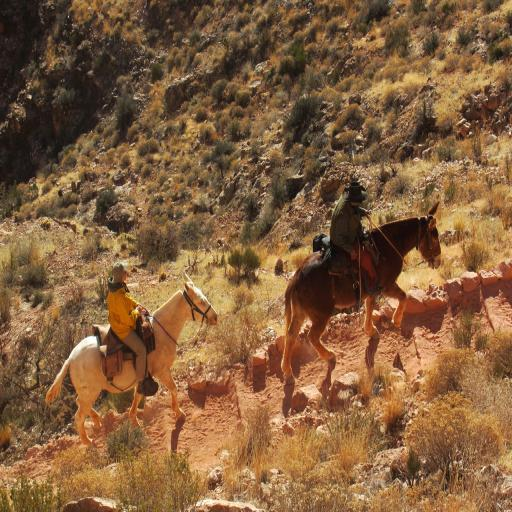horse: (44, 269, 218, 451), (281, 202, 443, 389)
